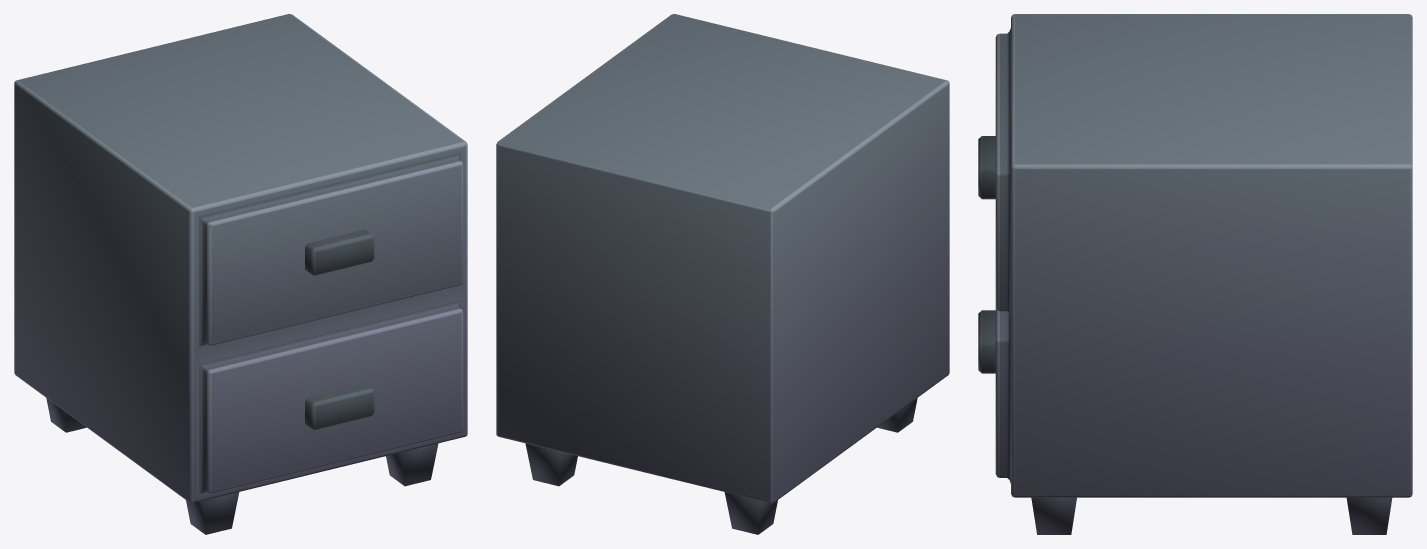
3 renders of one model, left to right at view 1: azimuth 30°, elevation 25°; view 2: azimuth 150°, elevation 25°; view 3: azimuth 270°, elevation 25°, orthographic. The views are drawn at different scales.
Visible parts, largest first — view 1: box; view 2: box; view 3: box.
Boxes of the visible parts, x1,y1,x2,y2 form: box: (14,14,467,534); box: (496,14,949,534); box: (978,14,1412,534).
Bounding box in the file's own units: 138 × 161 × 166.
